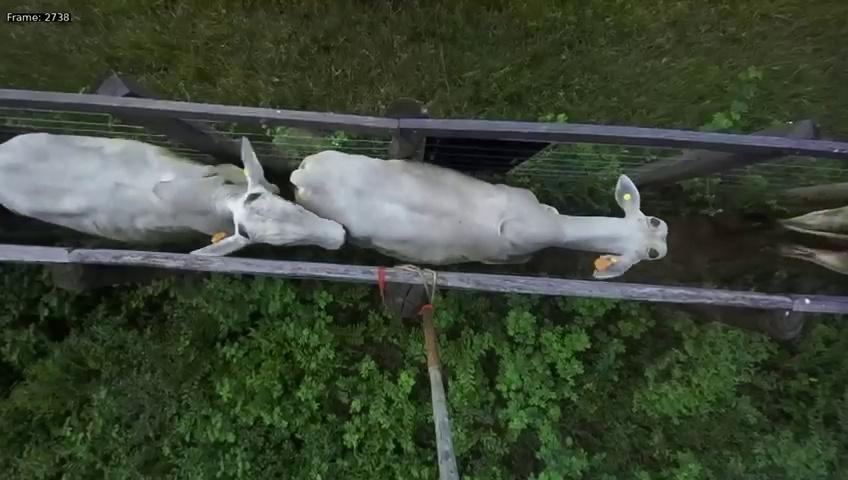cattle: (287, 118, 671, 281), (0, 97, 353, 266)
